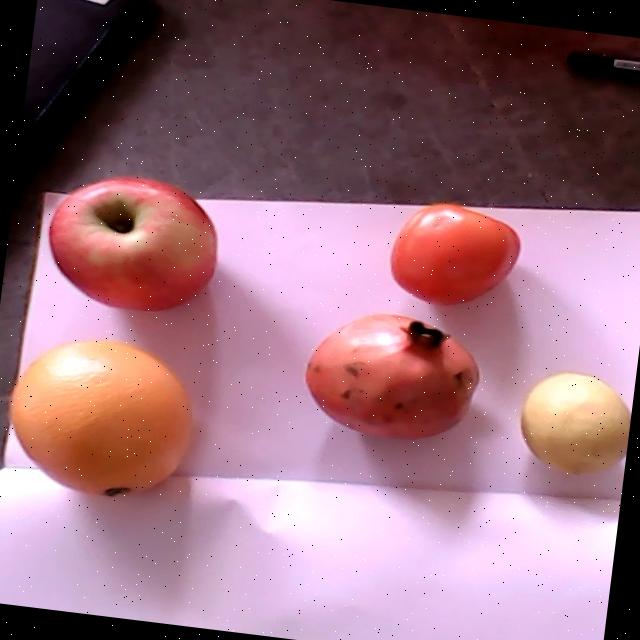apple: (49, 175, 215, 310)
lemon: (521, 370, 630, 475)
orange: (9, 338, 191, 496)
pomegranate: (306, 313, 475, 439)
tomato: (390, 205, 519, 304)
